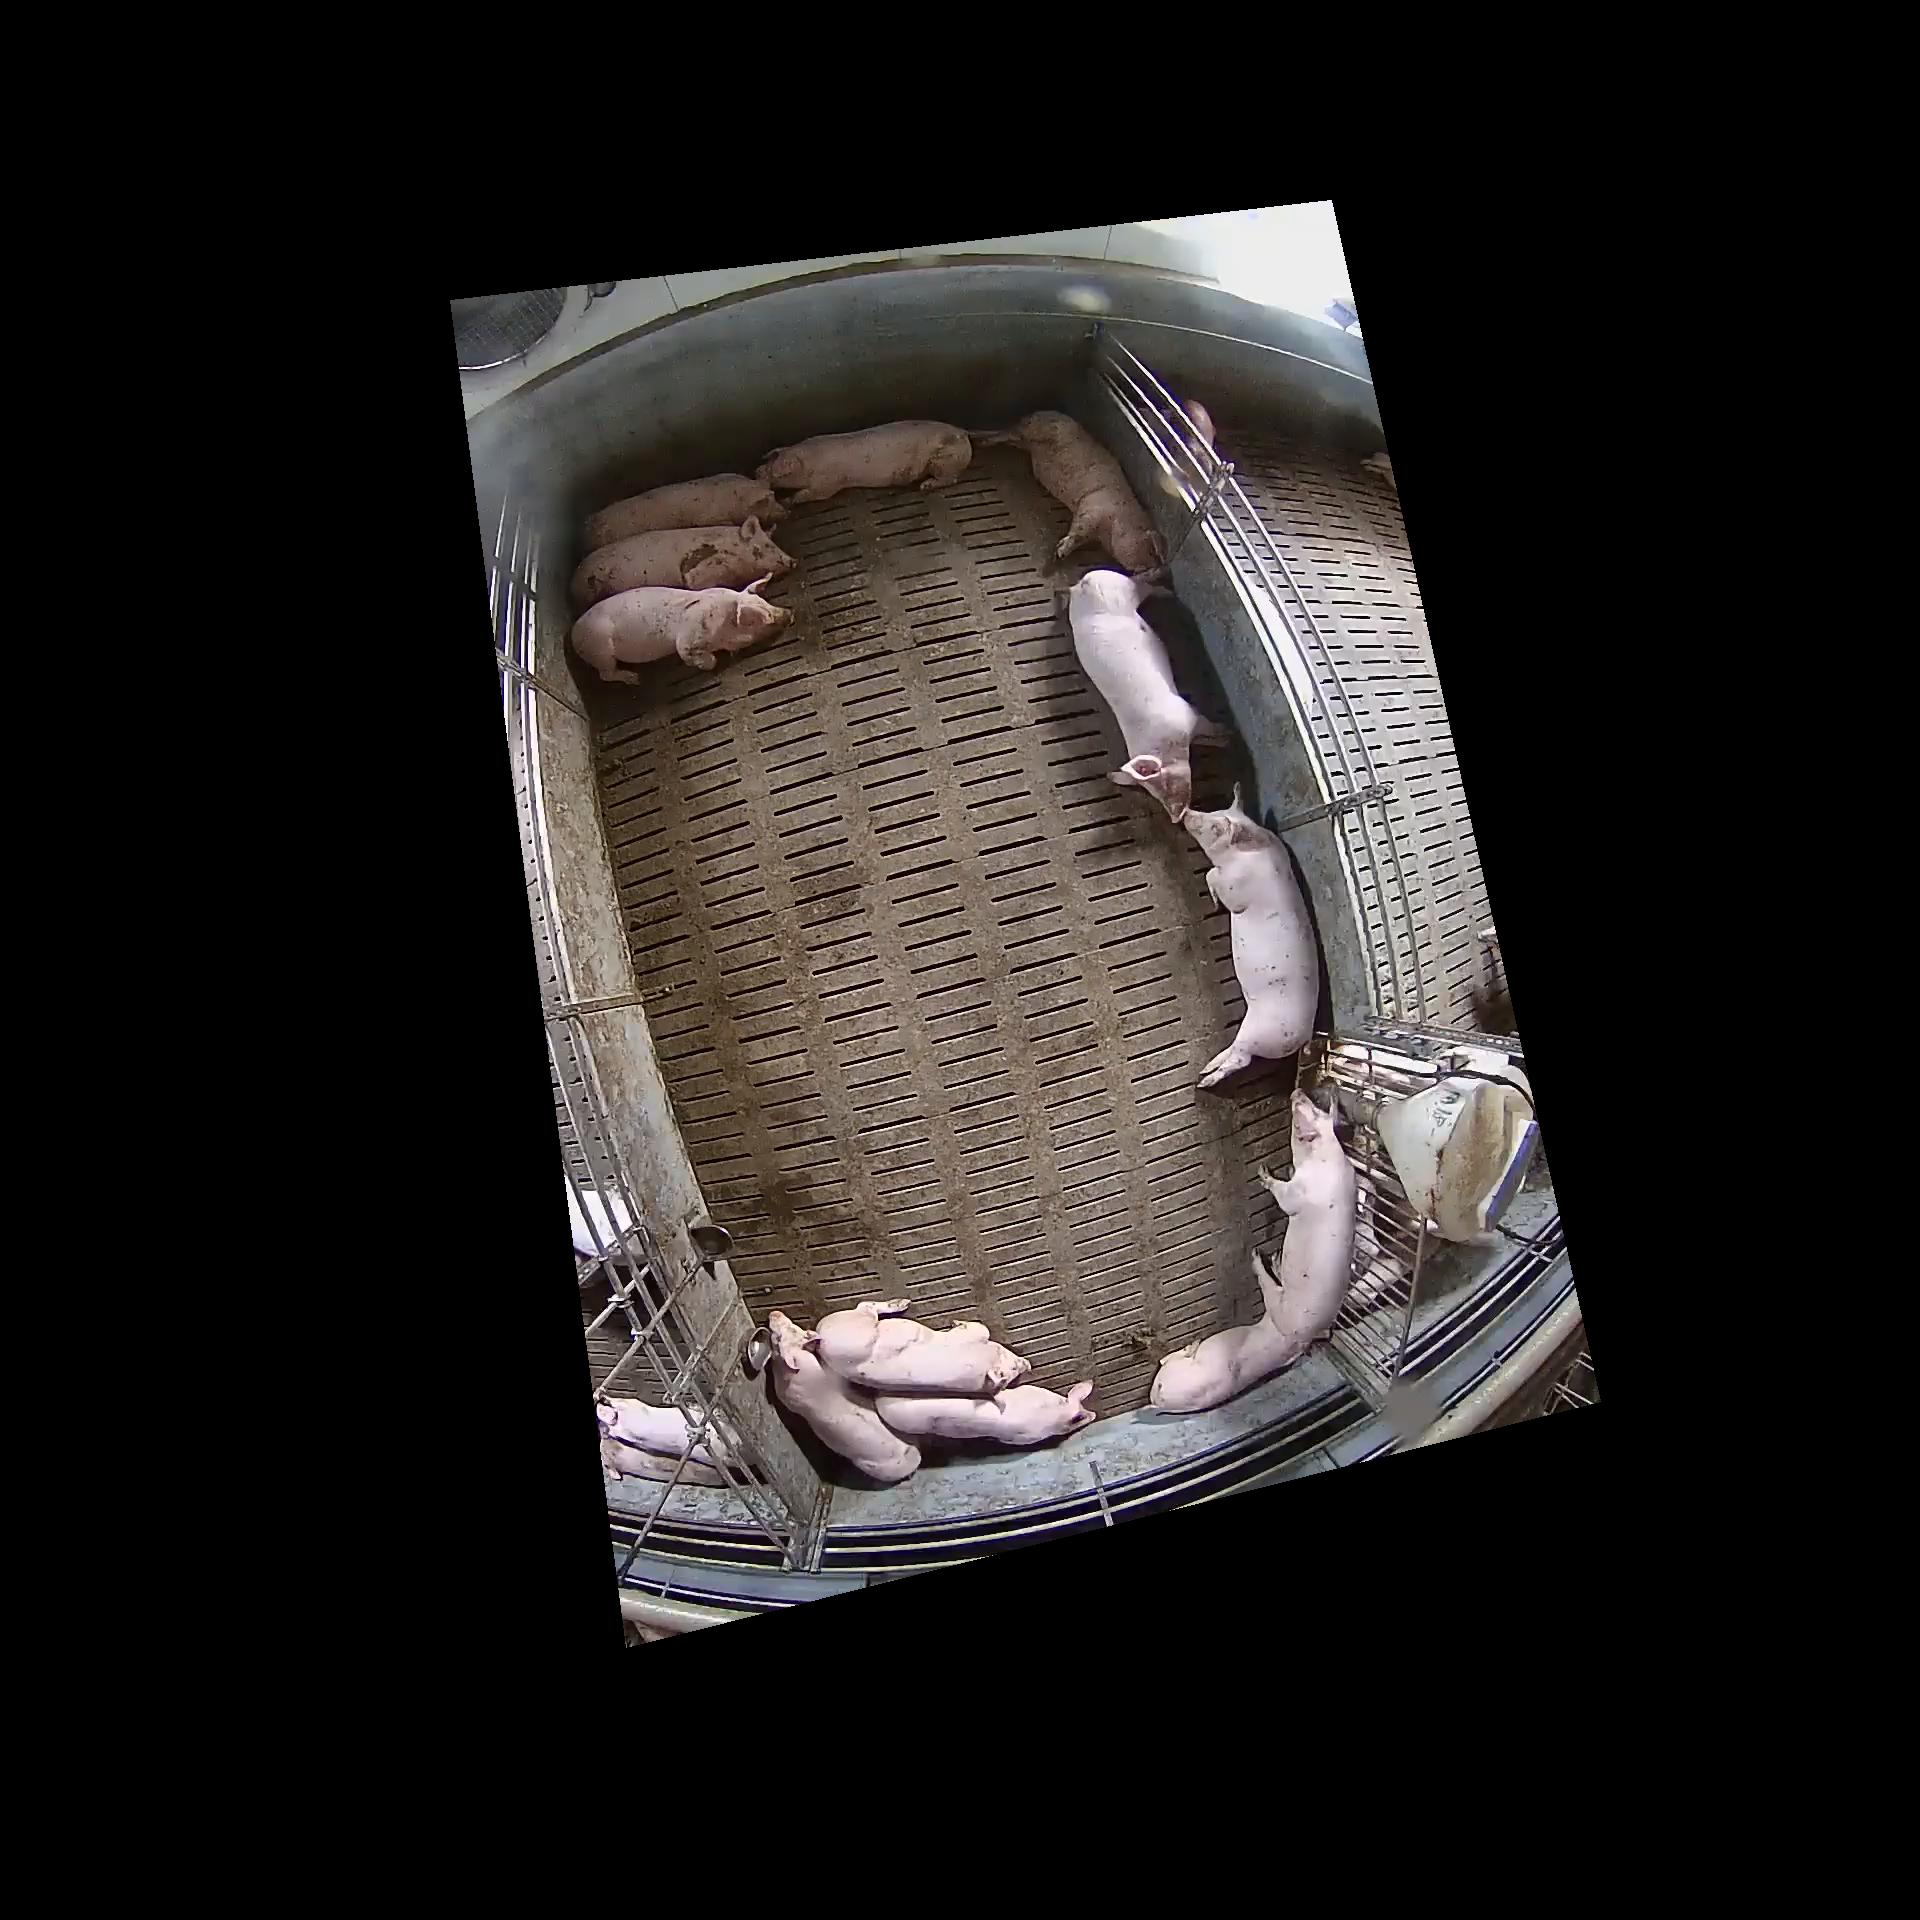pig: (1180, 791, 1317, 1083), (1065, 568, 1220, 819), (971, 411, 1162, 571), (1252, 1088, 1354, 1349), (768, 1312, 918, 1479), (571, 573, 788, 680), (571, 517, 793, 610), (807, 1303, 1027, 1393), (758, 418, 969, 501), (585, 471, 782, 549), (876, 1380, 1097, 1442), (1152, 1317, 1298, 1410)
